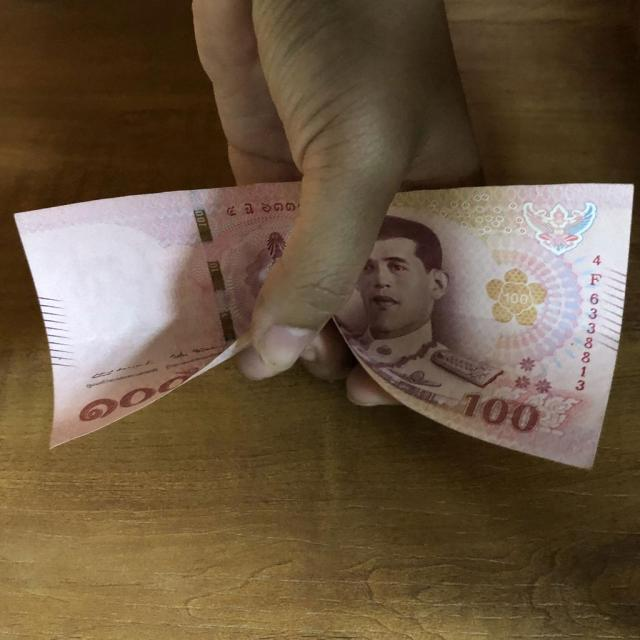THAI100: (328, 184, 632, 468), (16, 185, 299, 448)
